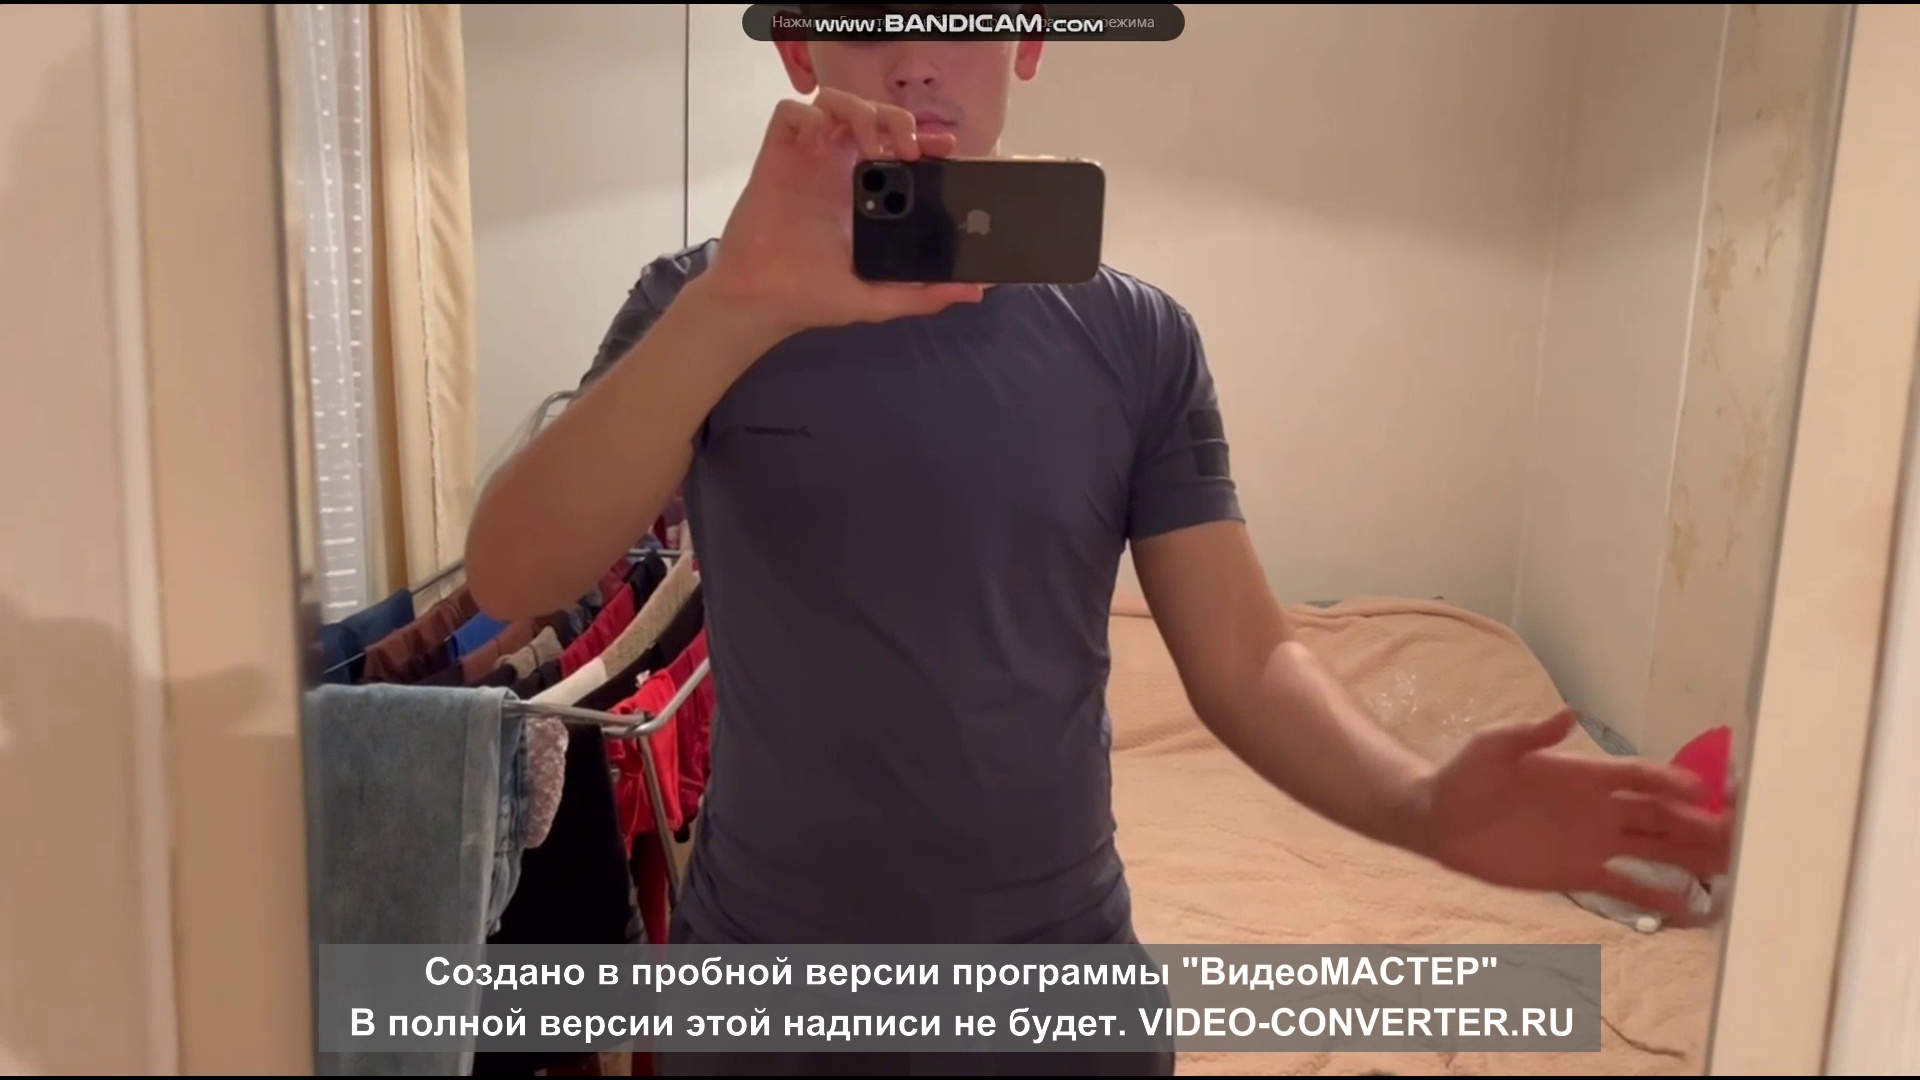Ладонь: (1436, 711, 1727, 926)
